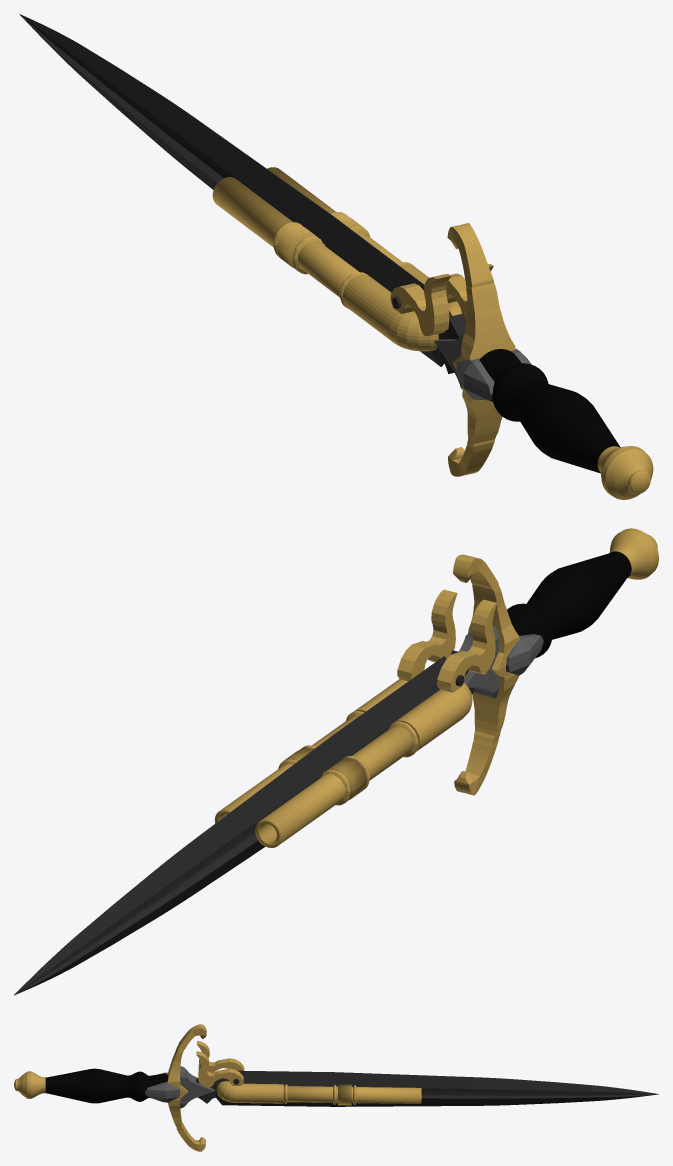
The model's file is knife.fbx.
3 renders of one model, top to bottom at view 1: azimuth 30°, elevation 25°; view 2: azimuth 150°, elevation 25°; view 3: azimuth 270°, elevation 25°, orthographic. The views are drawn at different scales.
Visible parts, largest first — view 1: blade, HANDLE, cross-guard, barrel.002, Cylinder.001, HANDLE.001, HAMMER.001, DIAMOND, Cylinder.008, barrel.001; view 2: blade, HANDLE, cross-guard, barrel.002, HAMMER.001, HAMMER, Cylinder.001, HANDLE.001, GUARD HOLDER, DIAMOND, barrel.001, Cylinder.008; view 3: blade, HANDLE, barrel.001, cross-guard, Cylinder.002, HAMMER, HANDLE.001, GUARD HOLDER, DIAMOND, HAMMER.001, Cylinder.004.
Boxes of the visible parts, left/top/right/bottom form: blade: left=19, top=14, right=603, bottom=451; HANDLE: left=479, top=349, right=620, bottom=473; cross-guard: left=447, top=223, right=515, bottom=476; barrel.002: left=212, top=177, right=359, bottom=297; Cylinder.001: left=342, top=274, right=438, bottom=351; HANDLE.001: left=597, top=446, right=653, bottom=499; HAMMER.001: left=390, top=274, right=450, bottom=336; DIAMOND: left=456, top=348, right=531, bottom=400; Cylinder.008: left=276, top=224, right=317, bottom=268; barrel.001: left=267, top=167, right=402, bottom=263; blade: left=14, top=650, right=475, bottom=995; HANDLE: left=507, top=551, right=631, bottom=657; cross-guard: left=453, top=554, right=519, bottom=795; barrel.002: left=255, top=726, right=413, bottom=847; HAMMER.001: left=437, top=599, right=497, bottom=692; HAMMER: left=397, top=589, right=457, bottom=681; Cylinder.001: left=394, top=682, right=472, bottom=751; HANDLE.001: left=609, top=528, right=658, bottom=579; GUARD HOLDER: left=459, top=626, right=499, bottom=698; DIAMOND: left=506, top=634, right=543, bottom=675; barrel.001: left=214, top=716, right=358, bottom=823; Cylinder.008: left=327, top=757, right=367, bottom=800; blade: left=196, top=1070, right=658, bottom=1106; HANDLE: left=45, top=1068, right=167, bottom=1103; barrel.001: left=283, top=1086, right=421, bottom=1103; cross-guard: left=167, top=1024, right=206, bottom=1151; Cylinder.002: left=216, top=1081, right=283, bottom=1103; HAMMER: left=196, top=1051, right=243, bottom=1087; HANDLE.001: left=14, top=1071, right=45, bottom=1098; GUARD HOLDER: left=180, top=1066, right=214, bottom=1108; DIAMOND: left=144, top=1072, right=180, bottom=1102; HAMMER.001: left=196, top=1041, right=244, bottom=1072; Cylinder.004: left=337, top=1084, right=351, bottom=1105.
Bounding box in the file's own units: 5.8 × 16.87 × 79.68.
